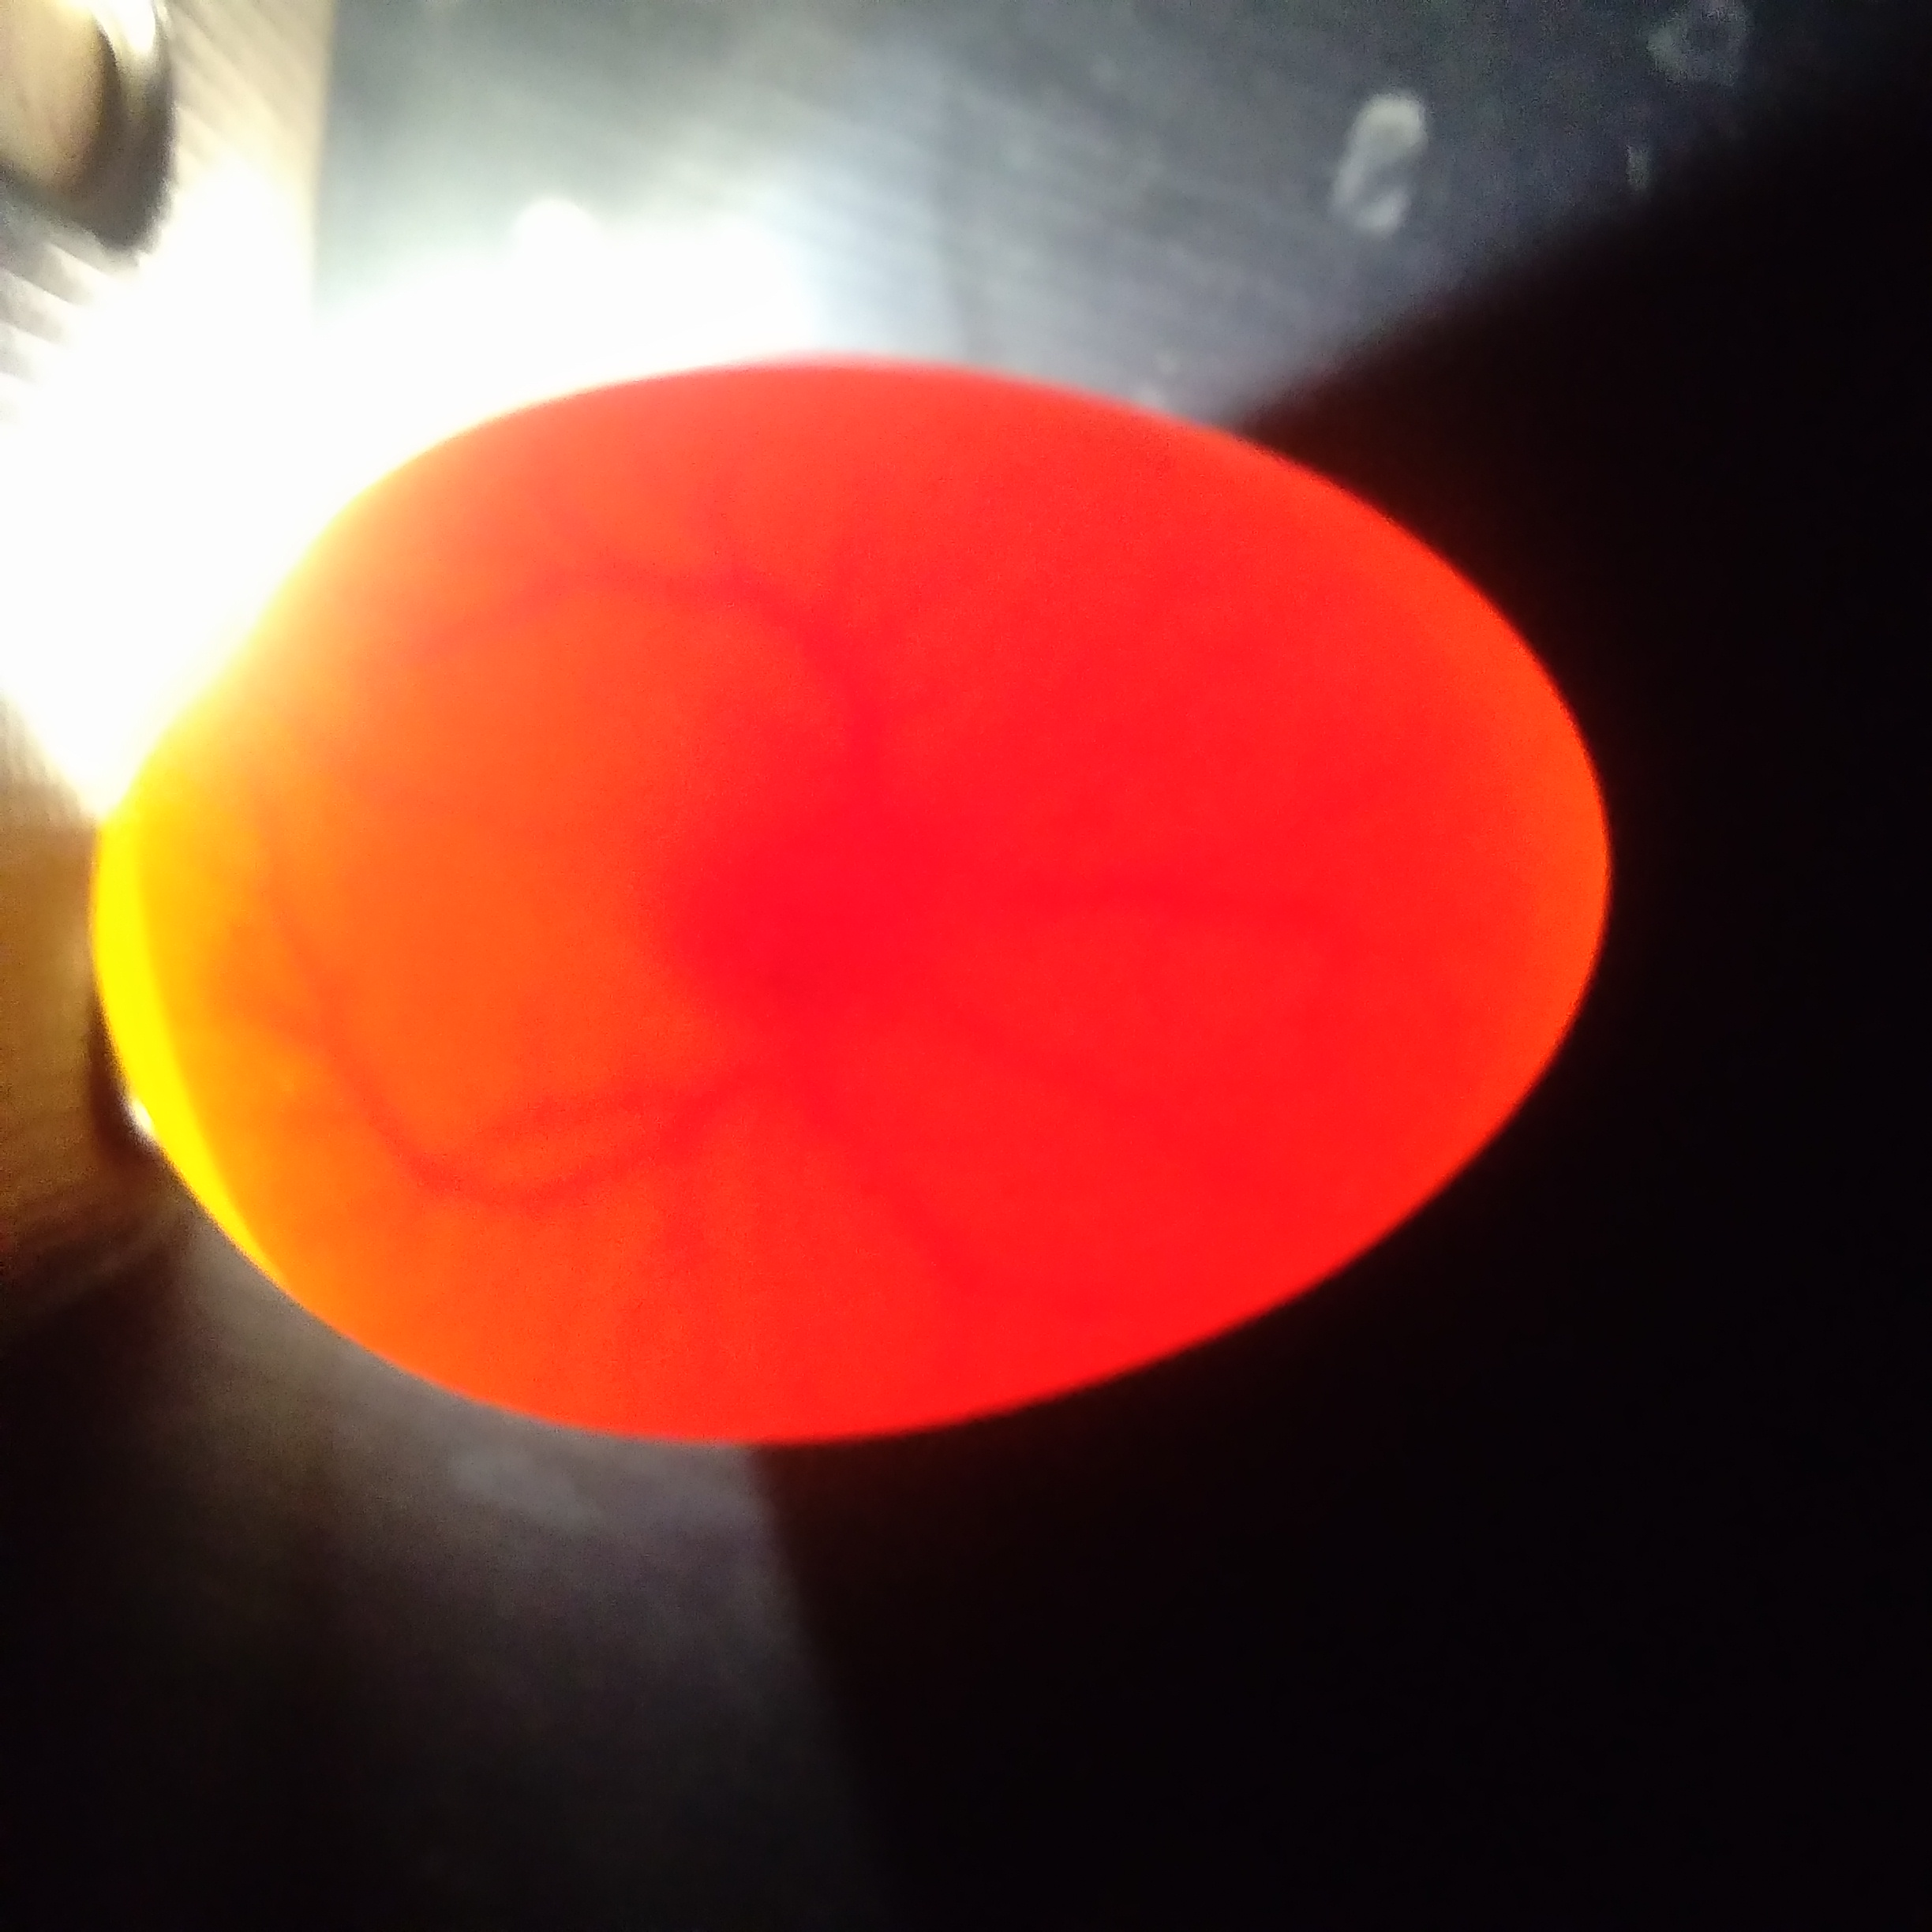bloodcell: (241, 713, 619, 1270), (676, 563, 1083, 725)
embryo: (660, 807, 966, 1031)
